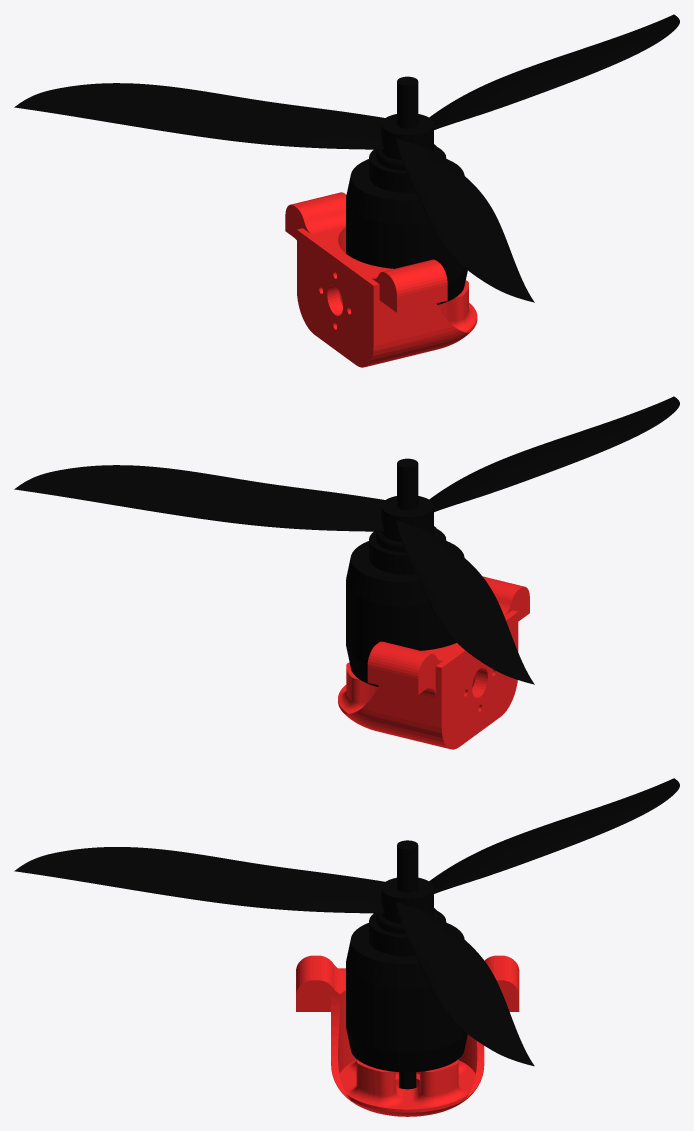
Rendered from beetle_hand_rotor_module.dae.
The picture shows the model from 3 angles, top to bottom: view 1: azimuth 30°, elevation 25°; view 2: azimuth 150°, elevation 25°; view 3: azimuth 270°, elevation 25°; orthographic projection.
Parts seen in each view (by area): view 1: Hand8 Beatle Motor Module Black, Hand8 Beatle Motor Module Red; view 2: Hand8 Beatle Motor Module Black, Hand8 Beatle Motor Module Red; view 3: Hand8 Beatle Motor Module Black, Hand8 Beatle Motor Module Red.
Boxes of the visible parts, x1,y1,x2,y2 form: Hand8 Beatle Motor Module Black: (14, 14, 679, 304); Hand8 Beatle Motor Module Red: (285, 192, 477, 367); Hand8 Beatle Motor Module Black: (14, 396, 679, 686); Hand8 Beatle Motor Module Red: (338, 576, 529, 749); Hand8 Beatle Motor Module Black: (14, 778, 679, 1089); Hand8 Beatle Motor Module Red: (296, 955, 519, 1116).
Size of the model in its own units: 0.1944 by 0.1899 by 0.0825.
